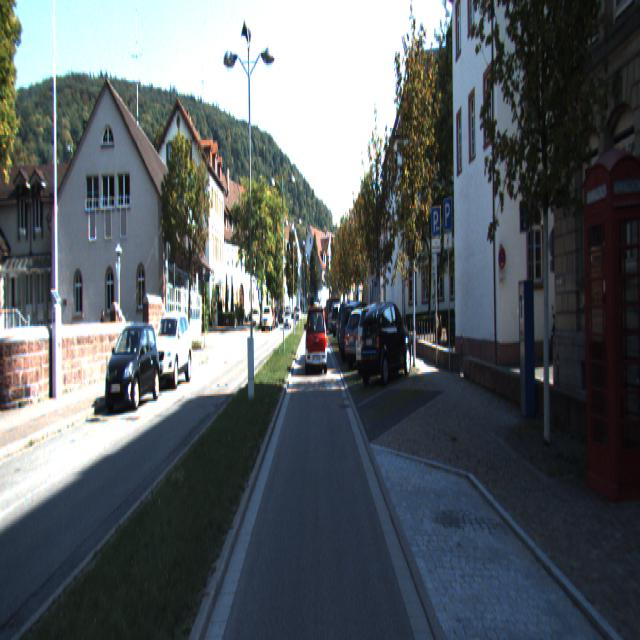Car: (104, 324, 162, 413), (359, 299, 414, 386), (355, 304, 407, 379), (147, 312, 193, 389), (342, 306, 390, 368), (338, 301, 379, 363), (306, 306, 328, 375)
